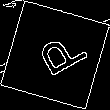P_SW: (24, 26, 86, 84)
